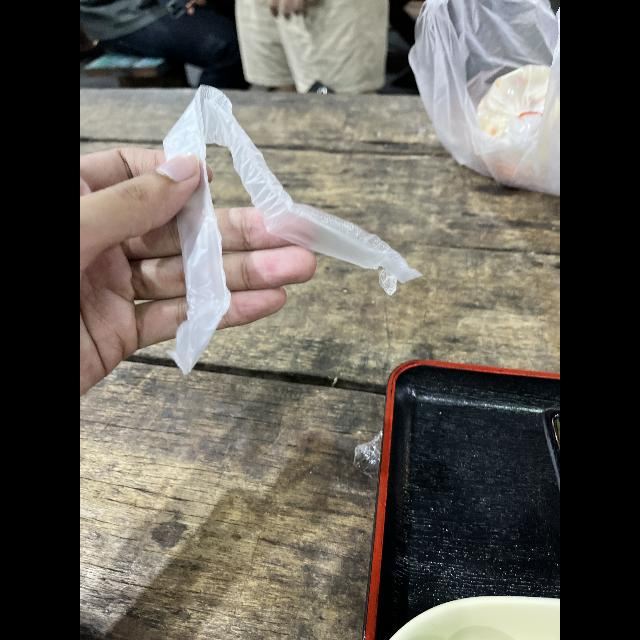plastic_bag: (406, 0, 560, 198)
scrap_plastic: (160, 77, 422, 380)
